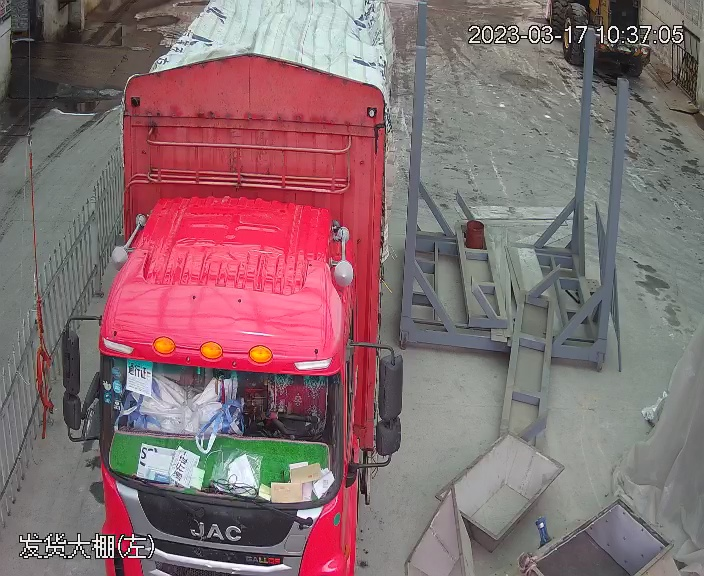truck: (42, 1, 426, 569)
